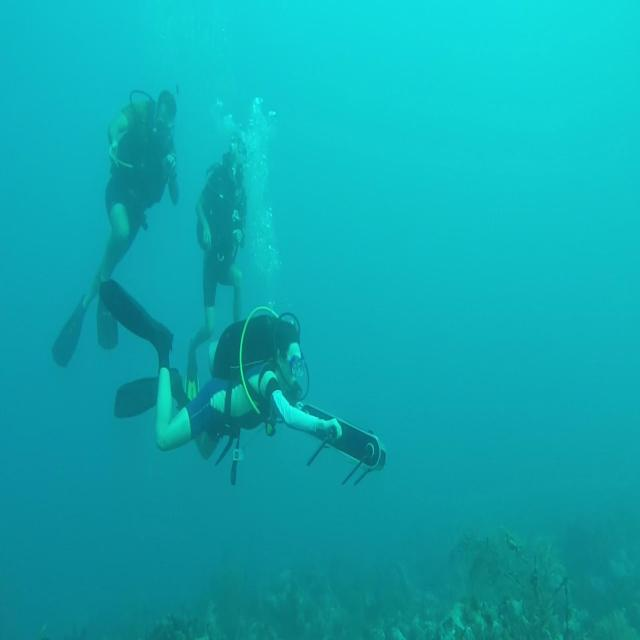human: (104, 298, 344, 485), (51, 87, 180, 368), (185, 130, 248, 401)
